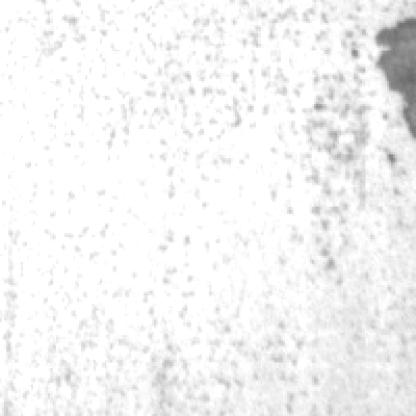patches: (370, 17, 414, 150)
pitted_surface: (0, 6, 370, 416)
